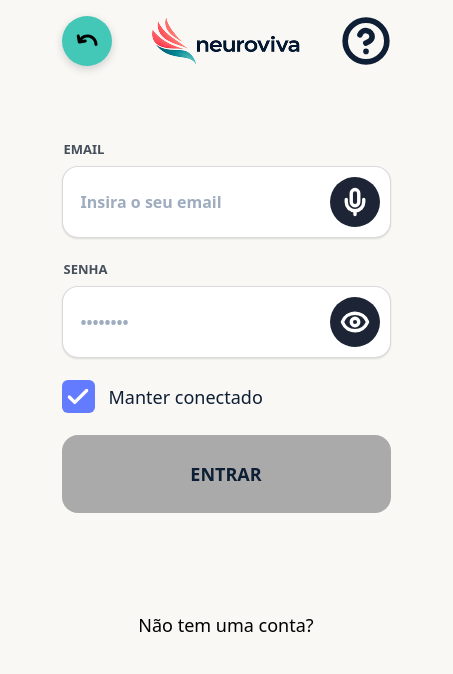
Test: login with a locally registered user opens the new patient dashboard
The image size is (453, 674).
Type "joao@example.com" into the field labelled "EMAIL". click: (199, 202)
box: 78,190 -> 320,214
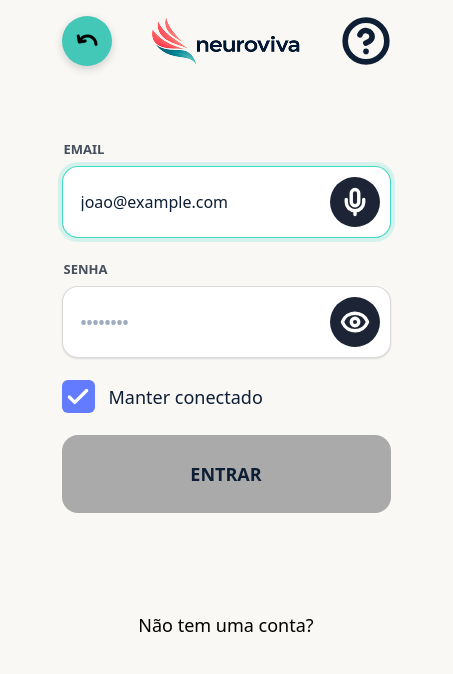
Type "123456" into the password field labelled "SENHA". click: (199, 322)
box: 78,310 -> 320,334
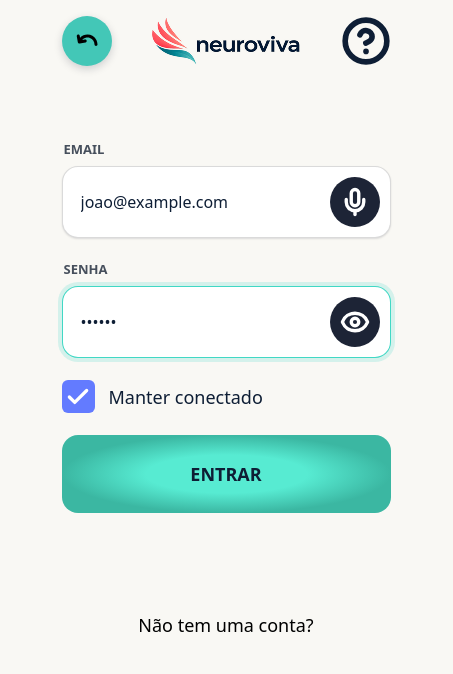
Click the button "ENTRAR". click: (226, 474)
box: 62,435 -> 390,513
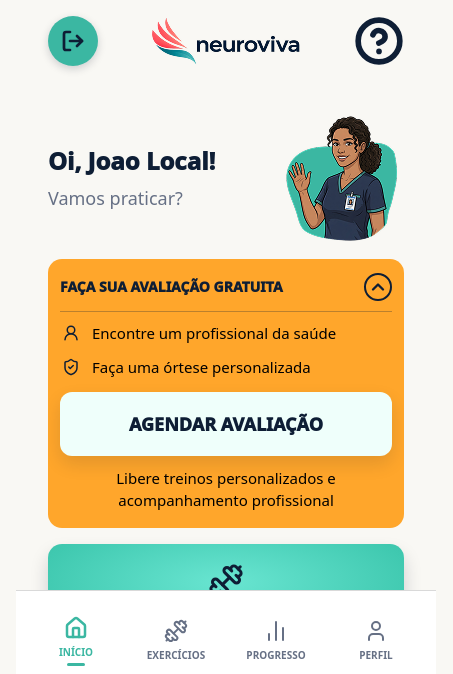
expect the heading "Oi, Joao Local!" is shown: met, box 48,148 -> 215,175
expect the heading "FAÇA SUA AVALIAÇÃO GRATUITA" is shown: met, box 60,279 -> 283,295
